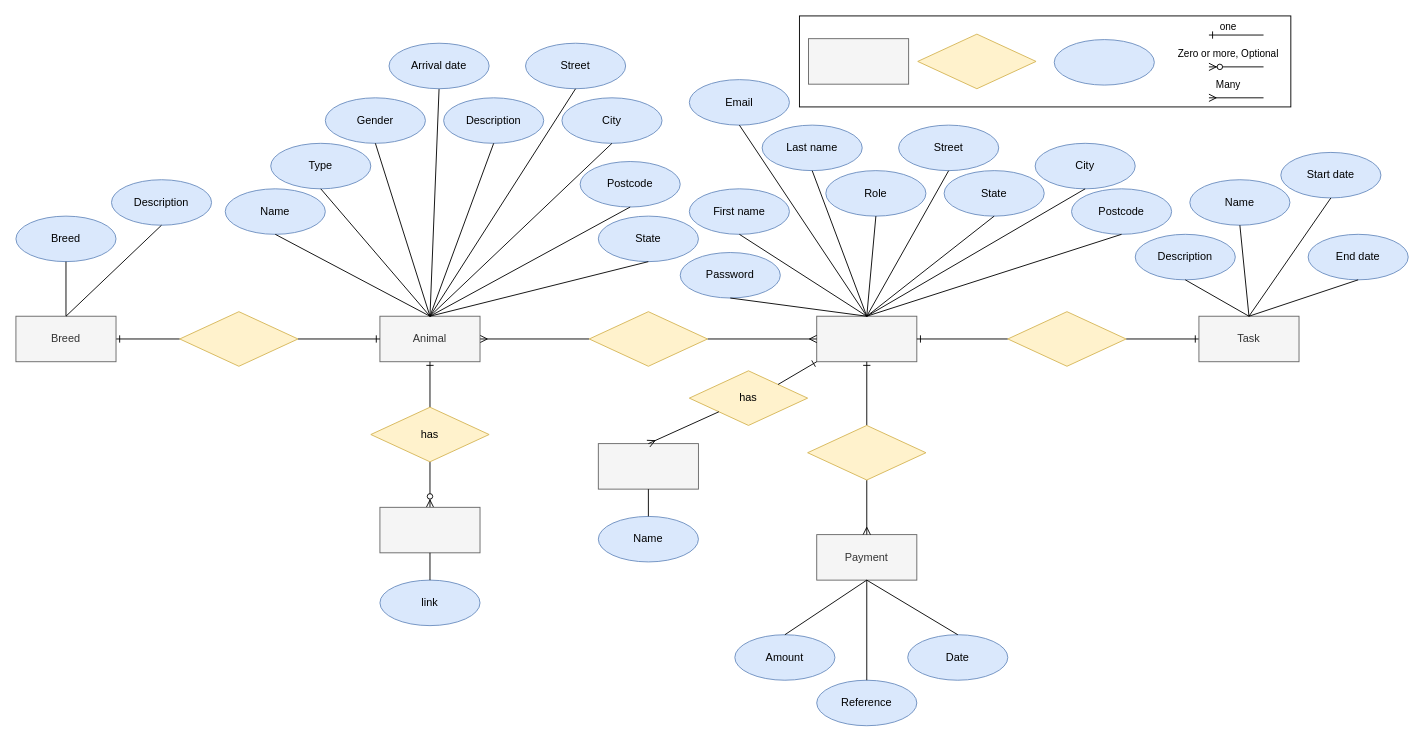
Some shapes in this 1424 by 742 pixel diagram are drawn without their labels. The centre of each missing label's shape, as x and y in pixels:
"Action" goes at (976,61).
"adopt / foster" goes at (648,338).
"Attribute" goes at (1103,62).
"do" goes at (1066,338).
"donate" goes at (866,452).
"Entity" goes at (858,61).
"is" goes at (238,338).
"Payment methods" goes at (647,466).
"Person" goes at (866,338).
"Photo" goes at (429,529).
